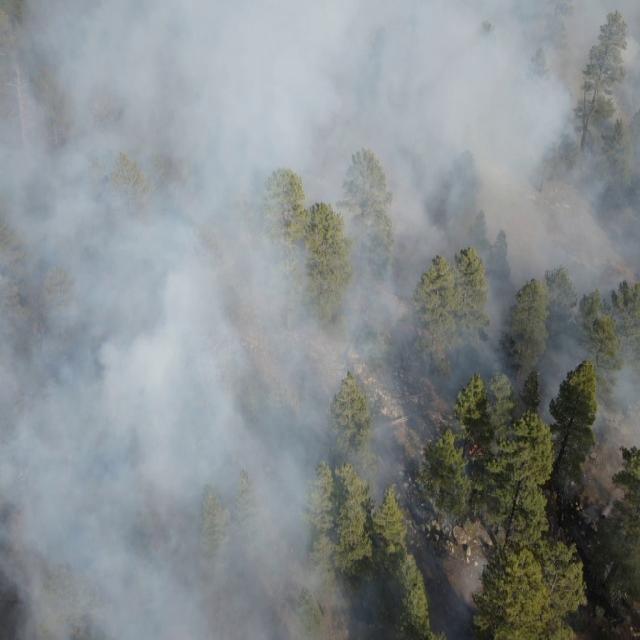fire: (468, 440, 486, 461)
smoke: (1, 0, 640, 389), (0, 392, 435, 640), (533, 387, 640, 518), (439, 527, 541, 640)
